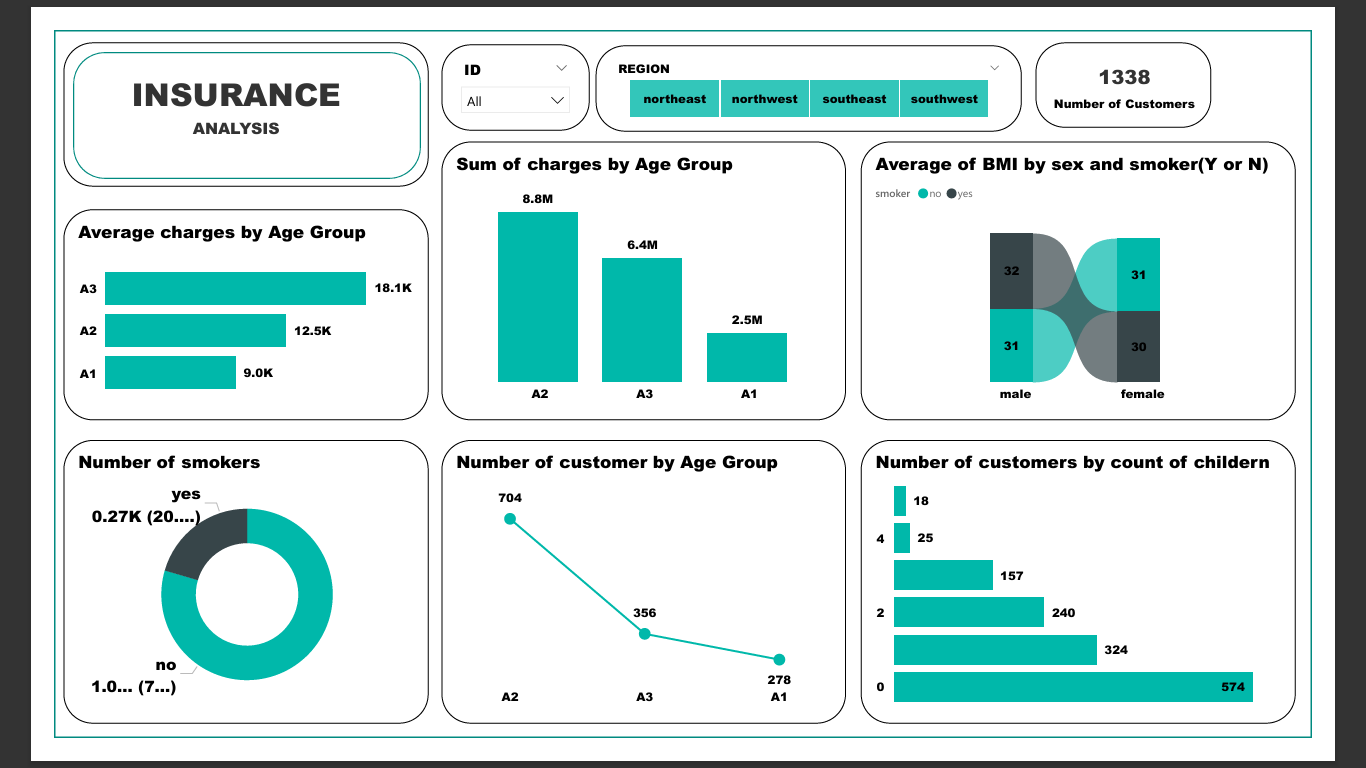

This screenshot's page, from the dashboard's own definition file:
{"tool":"powerbi","page":{"name":"Page 1","canvas":[1280,720],"ordinal":0},"visuals":[{"type":"shape","box":[0,0,1280.2,720],"z":0},{"type":"slicer","fields":{"Values":["insurance.ID"]},"box":[393.7,13.9,151.3,88],"z":1000},{"type":"card","fields":{"Values":["Count(insurance.ID)"]},"box":[998.9,12.4,179.1,86.5],"z":2000},{"type":"barChart","title":"Average charges by Age Group","fields":{"Category":["insurance.Age Group"],"Y":["Avg(insurance.charges)"]},"box":[9.3,182.2,372.1,214.6],"z":3000},{"type":"slicer","fields":{"Values":["insurance.region"]},"box":[551.1,15.4,433.8,88],"z":4000},{"type":"lineChart","title":"Number of customer by Age Group","fields":{"Y":["CountNonNull(insurance.ID)"],"Category":["insurance.Age Group"]},"box":[393.7,416.8,412.2,288.7],"z":5000},{"type":"ribbonChart","title":"Average of BMI by sex and smoker(Y or N)","fields":{"Y":["Avg(insurance.bmi)"],"Category":["insurance.sex"],"Series":["insurance.smoker"]},"box":[821.3,112.7,443.1,284.1],"z":6000},{"type":"donutChart","title":"Number of smokers","fields":{"Category":["insurance.smoker"],"Y":["CountNonNull(insurance.smoker)"]},"box":[9.3,416.8,372.1,288.7],"z":7000},{"type":"barChart","title":"Number of customers by count of childern","fields":{"Category":["insurance.children"],"Y":["CountNonNull(insurance.ID)"]},"box":[821.3,416.8,443.1,288.7],"z":8000},{"type":"columnChart","fields":{"Y":["Sum(insurance.charges)"],"Category":["insurance.Age Group"]},"box":[393.7,112.7,412.2,284.1],"z":9000},{"type":"shape","box":[9.3,12.4,372.1,146.7],"z":10000},{"type":"textbox","box":[32.4,37.1,305.7,98.8],"z":11000}]}

Visuals, with their boxes in screenshot pixels (x1, y1, x2, y2), scaled from the page's 1280x720 canvas onto the 1366x768 screenshot:
shape: Rect(0, 0, 1365, 767)
slicer - insurance.ID: Rect(420, 15, 582, 109)
card - Count(insurance.ID): Rect(1066, 13, 1257, 105)
"Average charges by Age Group" barChart: Rect(10, 194, 407, 423)
slicer - insurance.region: Rect(588, 16, 1051, 110)
"Number of customer by Age Group" lineChart: Rect(420, 445, 860, 753)
"Average of BMI by sex and smoker(Y or N)" ribbonChart: Rect(876, 120, 1349, 423)
"Number of smokers" donutChart: Rect(10, 445, 407, 753)
"Number of customers by count of childern" barChart: Rect(876, 445, 1349, 753)
columnChart - Sum(insurance.charges) x insurance.Age Group: Rect(420, 120, 860, 423)
shape: Rect(10, 13, 407, 170)
textbox: Rect(35, 40, 361, 145)
